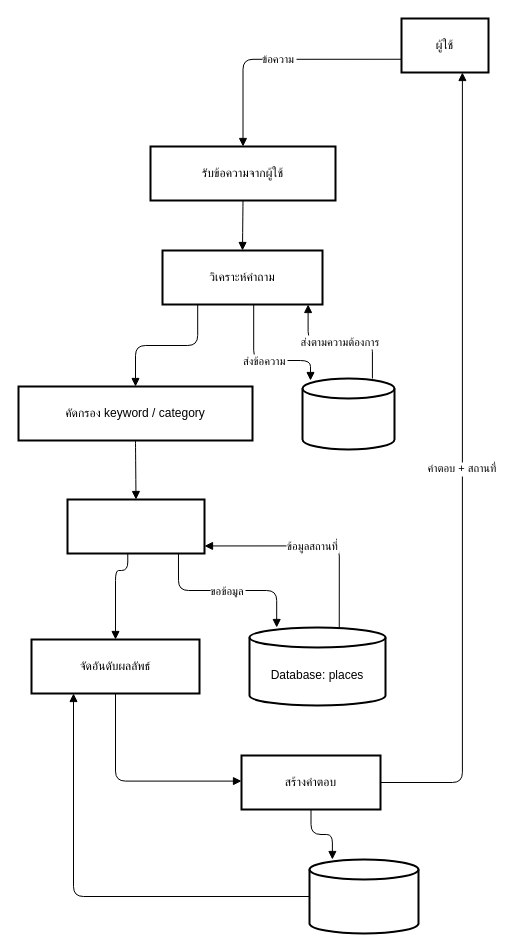
Some shapes in this 514 by 951 pixel diagram are drawn without their labels. Here are the shapes that lost their labels. From the top down, the box of each, then its label:
(301, 377, 395, 450): Gemini API
(66, 498, 205, 554): ค้นหาข้อมูล
(308, 858, 419, 934): Session State
